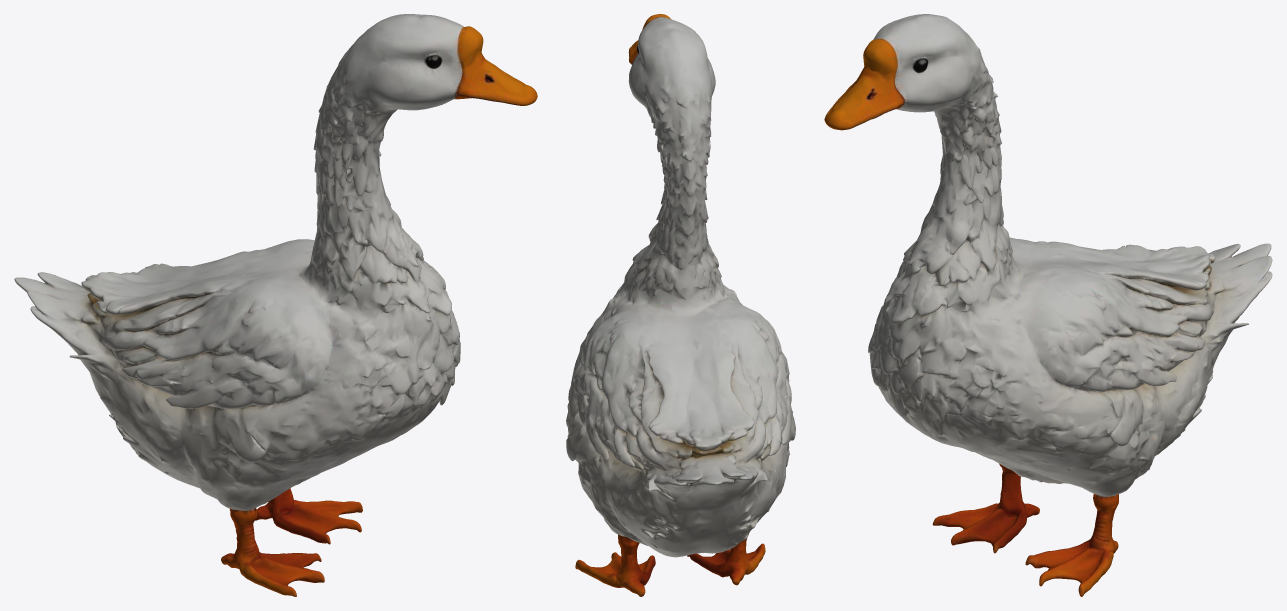
3 renders of one model, left to right at view 1: azimuth 30°, elevation 25°; view 2: azimuth 150°, elevation 25°; view 3: azimuth 270°, elevation 25°, orthographic. The views are drawn at different scales.
Visible parts, largest first — view 1: tripo_node_6553d9d8-91c8-4d32-b657-cbe8a5d99590; view 2: tripo_node_6553d9d8-91c8-4d32-b657-cbe8a5d99590; view 3: tripo_node_6553d9d8-91c8-4d32-b657-cbe8a5d99590.
Boxes of the visible parts, x1,y1,x2,y2 form: tripo_node_6553d9d8-91c8-4d32-b657-cbe8a5d99590: (14, 14, 537, 596); tripo_node_6553d9d8-91c8-4d32-b657-cbe8a5d99590: (566, 14, 795, 596); tripo_node_6553d9d8-91c8-4d32-b657-cbe8a5d99590: (824, 14, 1272, 596).
Size of the model in its own units: 0.5915 by 0.9998 by 0.7173.
Materials: 1 (1 with a texture image).
